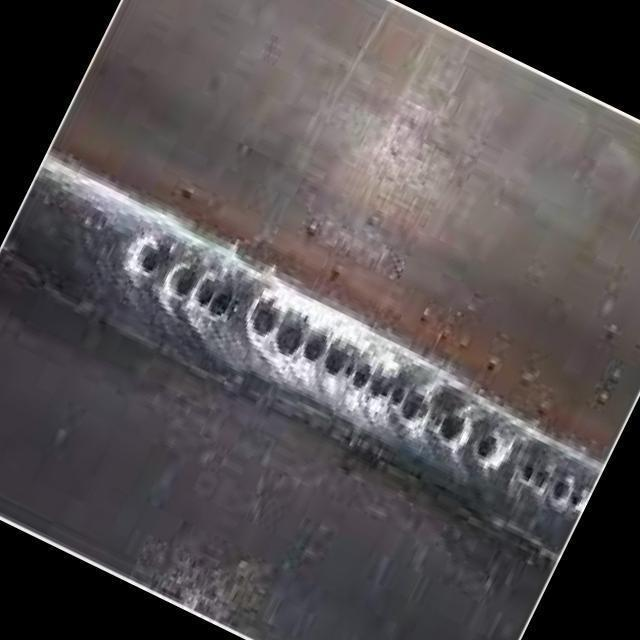defect: (242, 290, 434, 434), (129, 233, 240, 329), (515, 457, 586, 514), (439, 405, 480, 452), (470, 427, 508, 477)
